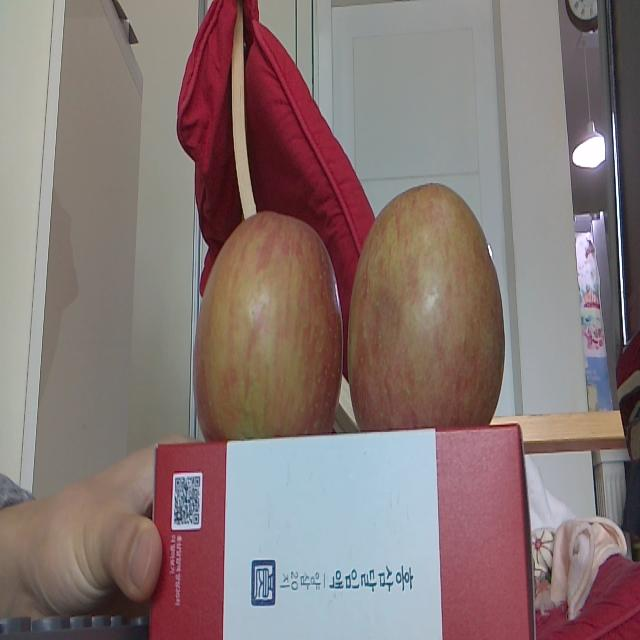apple: (345, 180, 506, 434), (190, 209, 346, 441)
